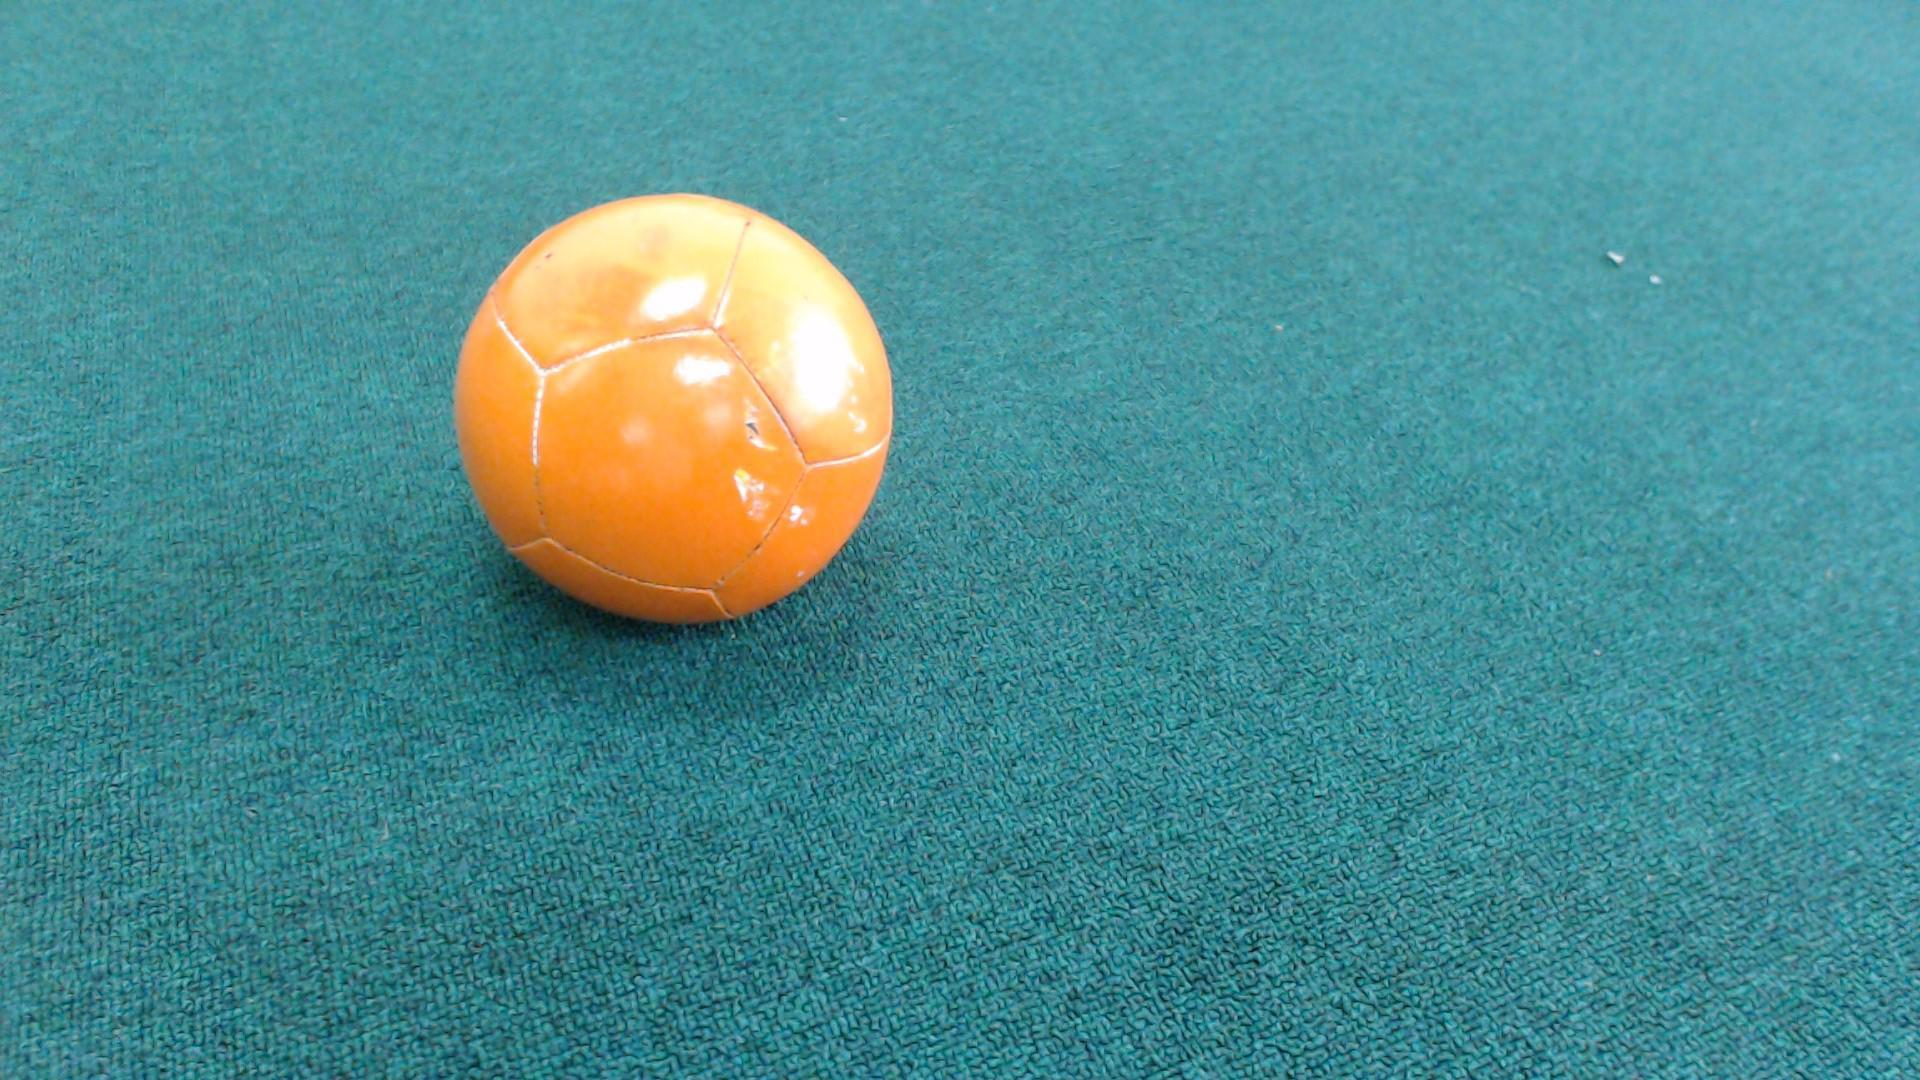bola: (414, 166, 940, 653)
